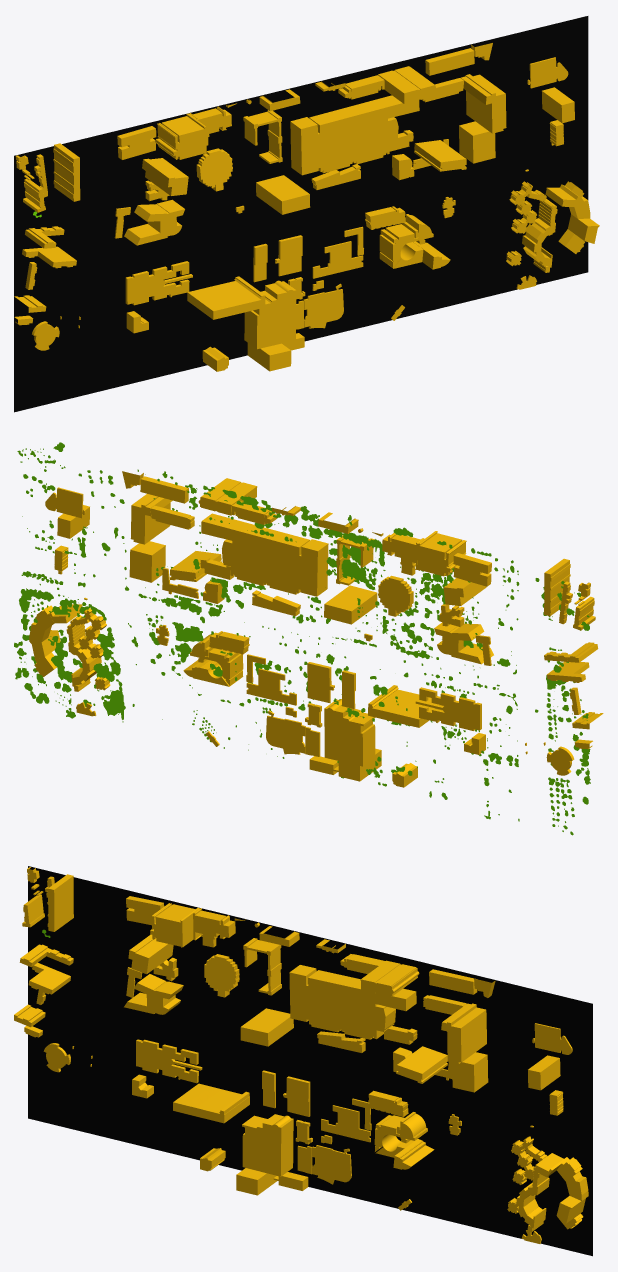
File: existing_buildings_05.glb
3 renders of one model, top to bottom at view 1: azimuth 30°, elevation 25°; view 2: azimuth 150°, elevation 25°; view 3: azimuth 330°, elevation 25°, orthographic.
Visible parts, largest first — view 1: Layer 04, existing_building, existing_building - Copy; view 2: existing_building, treesurface, existing_building - Copy; view 3: Layer 04, existing_building, existing_building - Copy.
Part boxes in pixels (<box>): Layer 04: <box>14,16,588,412</box>; existing_building: <box>14,48,599,371</box>; existing_building - Copy: <box>14,43,590,350</box>; existing_building: <box>30,476,603,787</box>; treesurface: <box>14,442,590,835</box>; existing_building - Copy: <box>29,471,592,775</box>; Layer 04: <box>28,866,592,1256</box>; existing_building: <box>14,874,585,1232</box>; existing_building - Copy: <box>24,867,588,1243</box>.
Bounding box in the file's own units: 1015 × 458 × 78.19.
